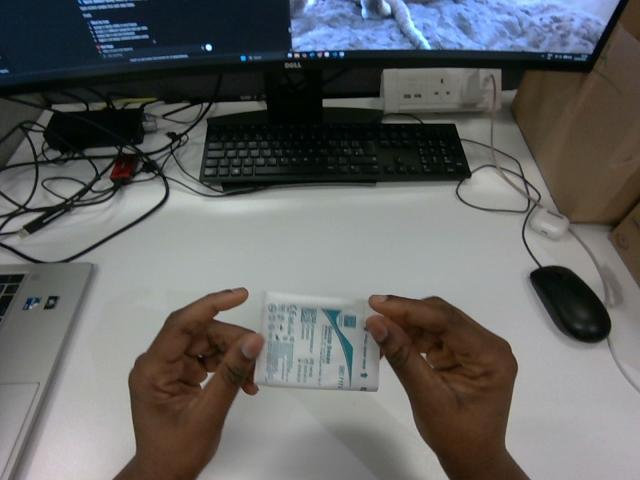gauze: (254, 292, 379, 390)
